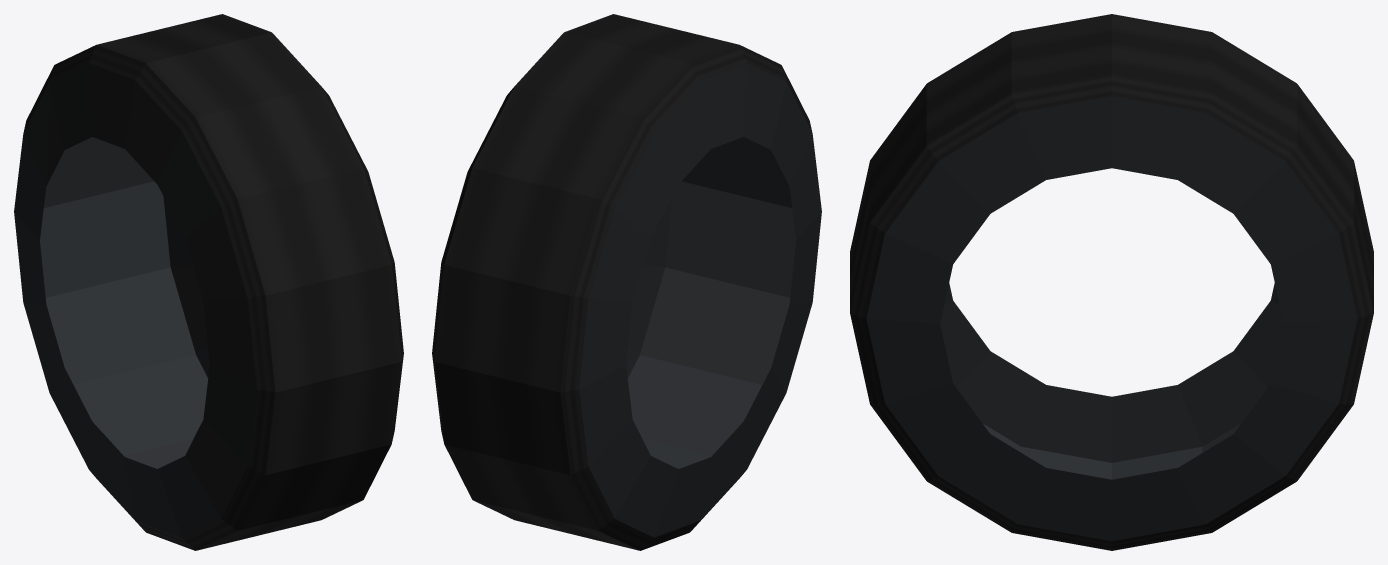
Rendered from tire_02_all_terrain.obj.
The picture shows the model from 3 angles, left to right: view 1: azimuth 30°, elevation 25°; view 2: azimuth 150°, elevation 25°; view 3: azimuth 270°, elevation 25°; orthographic projection.
Visible parts, largest first — view 1: tire_02_all_terrain; view 2: tire_02_all_terrain; view 3: tire_02_all_terrain.
Boxes of the visible parts, <box> form: tire_02_all_terrain: <box>14,14,403,550</box>; tire_02_all_terrain: <box>432,14,821,550</box>; tire_02_all_terrain: <box>850,14,1373,550</box>.
Bounding box in the file's own units: 0.3 × 0.8 × 0.8.
